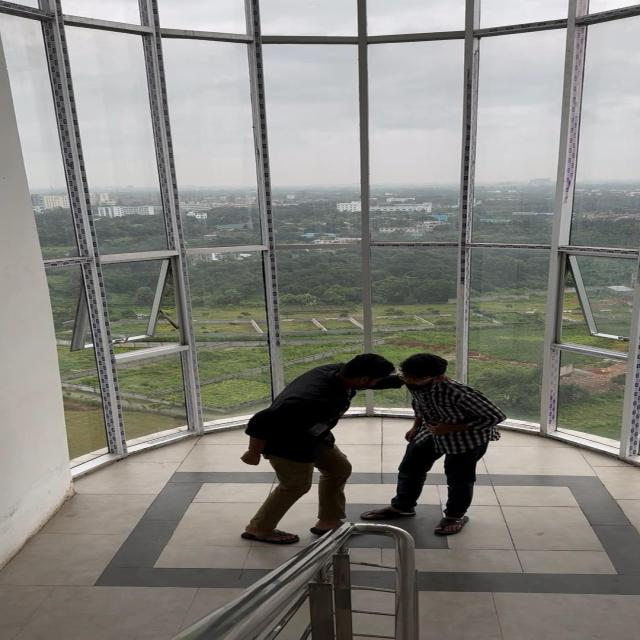fight: (213, 328, 562, 586)
